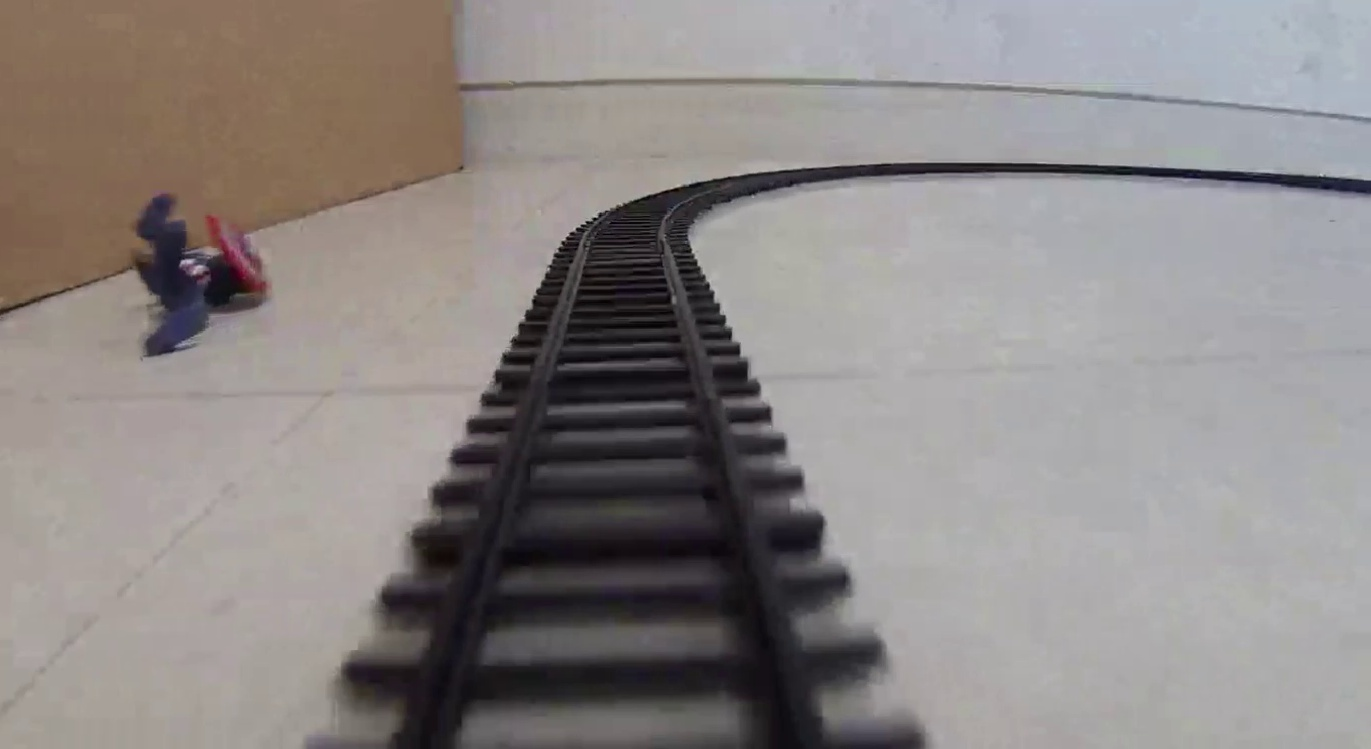people: (137, 195, 271, 347)
